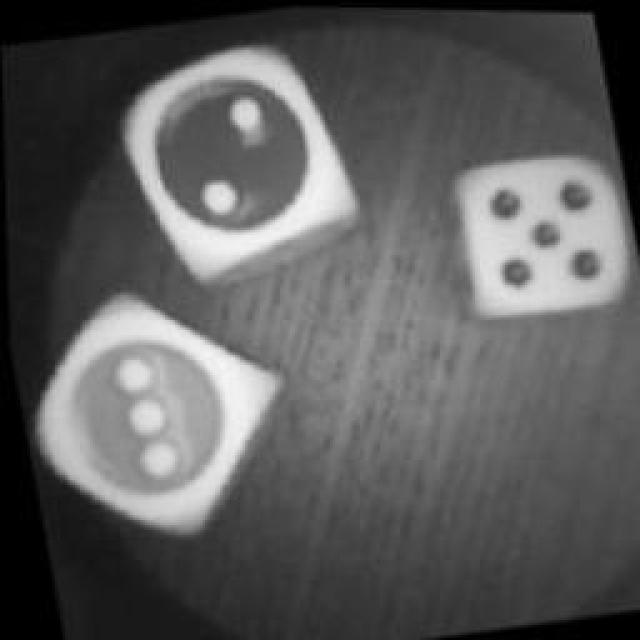dice_2: (111, 23, 369, 288)
dice_3: (10, 280, 275, 550)
dice_5: (432, 125, 640, 340)
